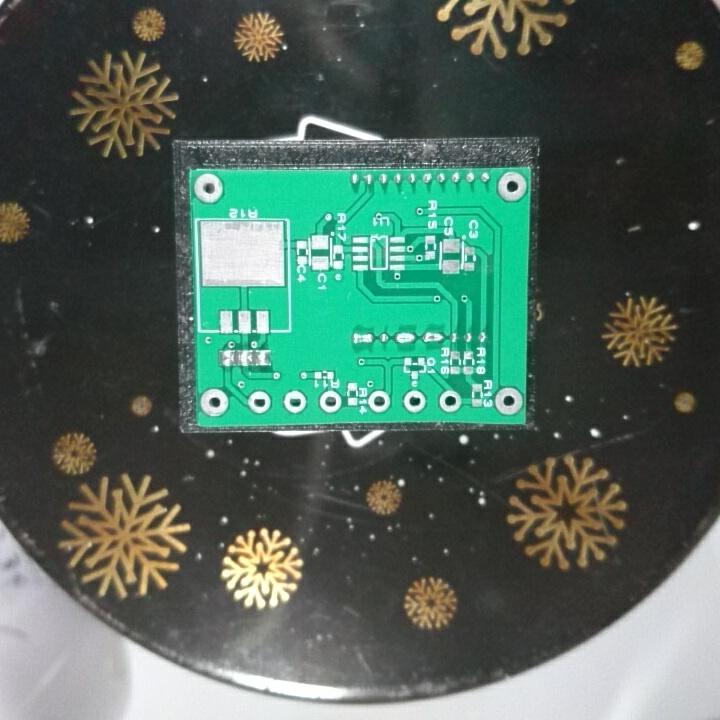F: (495, 169, 528, 204), (192, 171, 227, 204), (491, 384, 525, 417), (199, 387, 232, 419), (246, 387, 275, 415), (401, 389, 428, 415), (317, 387, 343, 414), (282, 388, 308, 415), (437, 388, 462, 414), (367, 388, 392, 414)
P: (349, 329, 376, 348), (392, 329, 417, 347), (420, 329, 445, 347)
